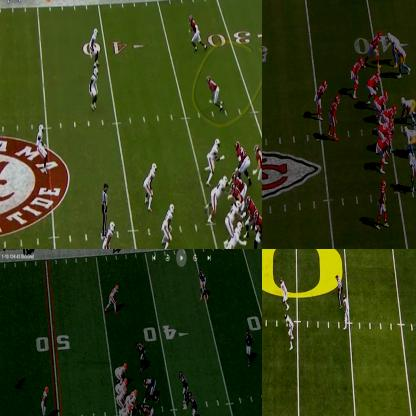CENTER: (234, 189, 247, 212), (129, 390, 140, 415), (382, 106, 399, 121)
DB: (36, 126, 46, 170), (91, 62, 99, 107), (105, 221, 116, 248), (90, 25, 99, 57), (200, 271, 209, 299), (343, 293, 350, 328), (247, 330, 254, 363), (388, 31, 400, 44)
LB: (395, 40, 409, 81), (144, 164, 156, 210), (162, 205, 174, 248), (284, 313, 293, 347), (181, 371, 189, 405), (280, 279, 289, 308), (189, 394, 200, 415)
QB: (327, 95, 339, 141), (116, 388, 126, 409)
SKILL: (377, 178, 386, 229), (370, 30, 382, 68), (318, 80, 328, 122), (189, 18, 201, 52), (351, 58, 362, 92), (208, 76, 220, 106), (106, 284, 118, 313), (254, 146, 261, 186), (42, 385, 49, 415)
